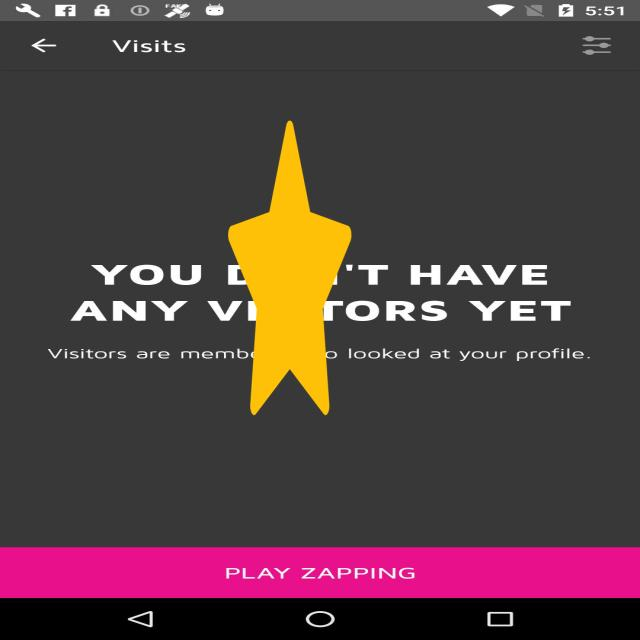forced continuity: (228, 120, 352, 416)
